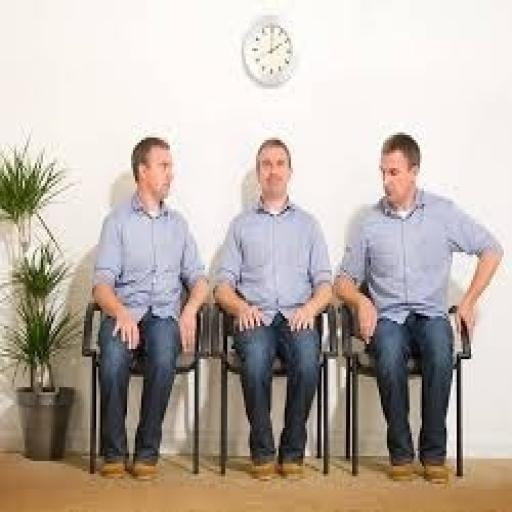sitting: (84, 127, 504, 484)
